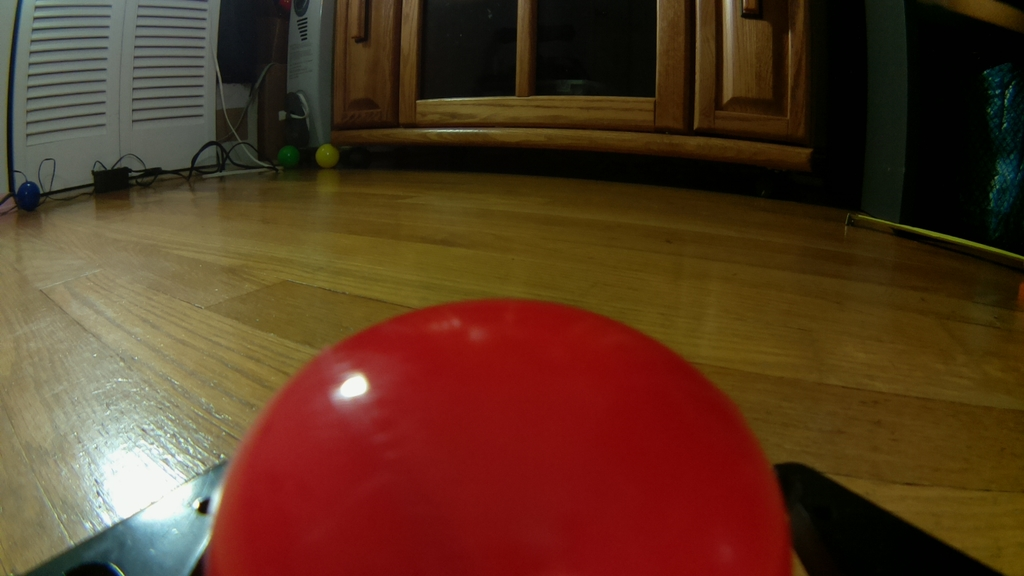ball: (202, 294, 799, 576)
